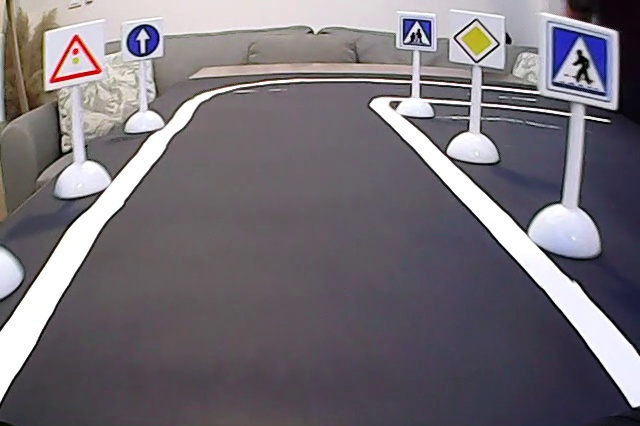pedestrian crossing: (545, 20, 614, 102)
red light: (47, 29, 104, 85)
school crossing: (399, 14, 434, 51)
